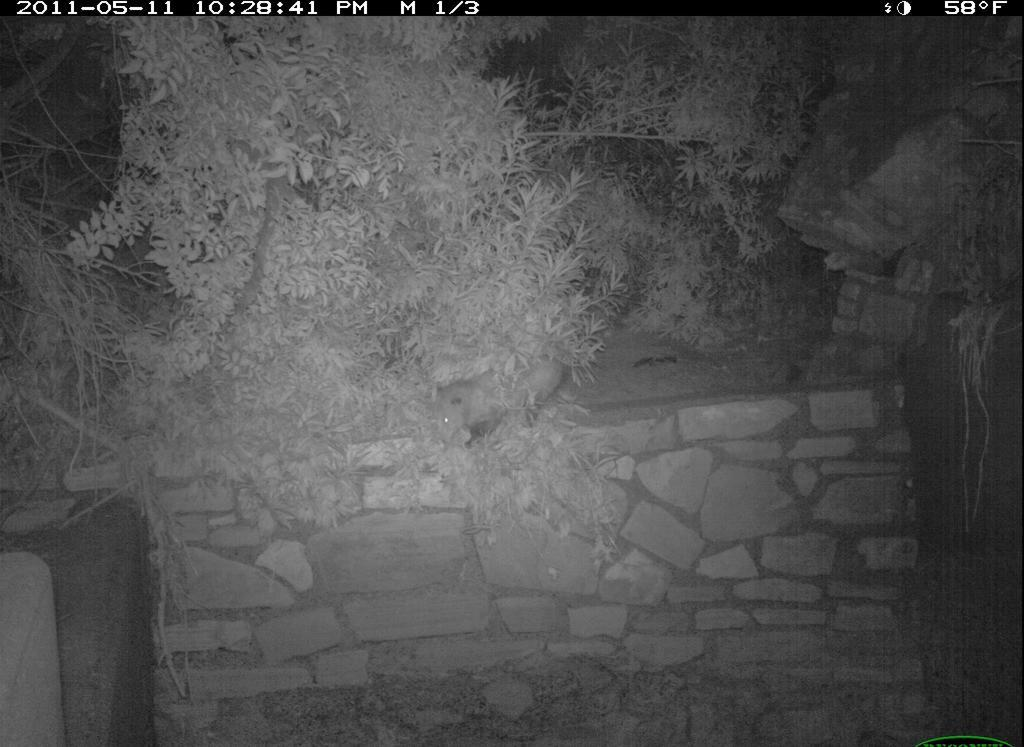opossum: (428, 355, 577, 450)
